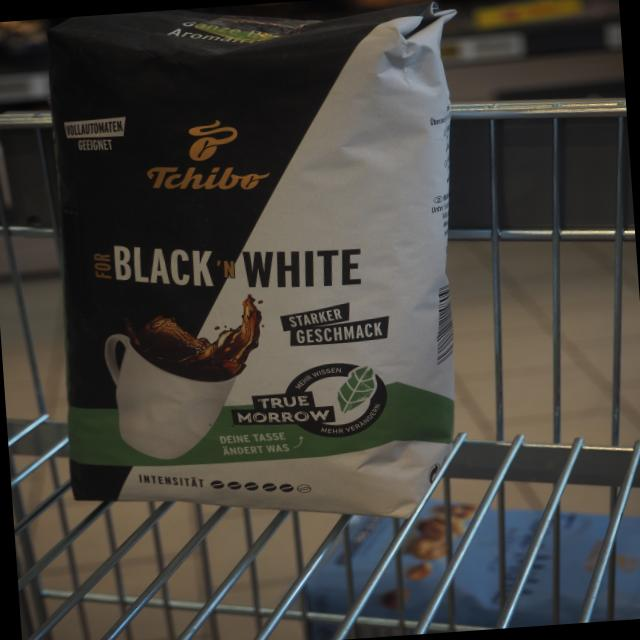BW Bohne: (23, 0, 471, 535)
